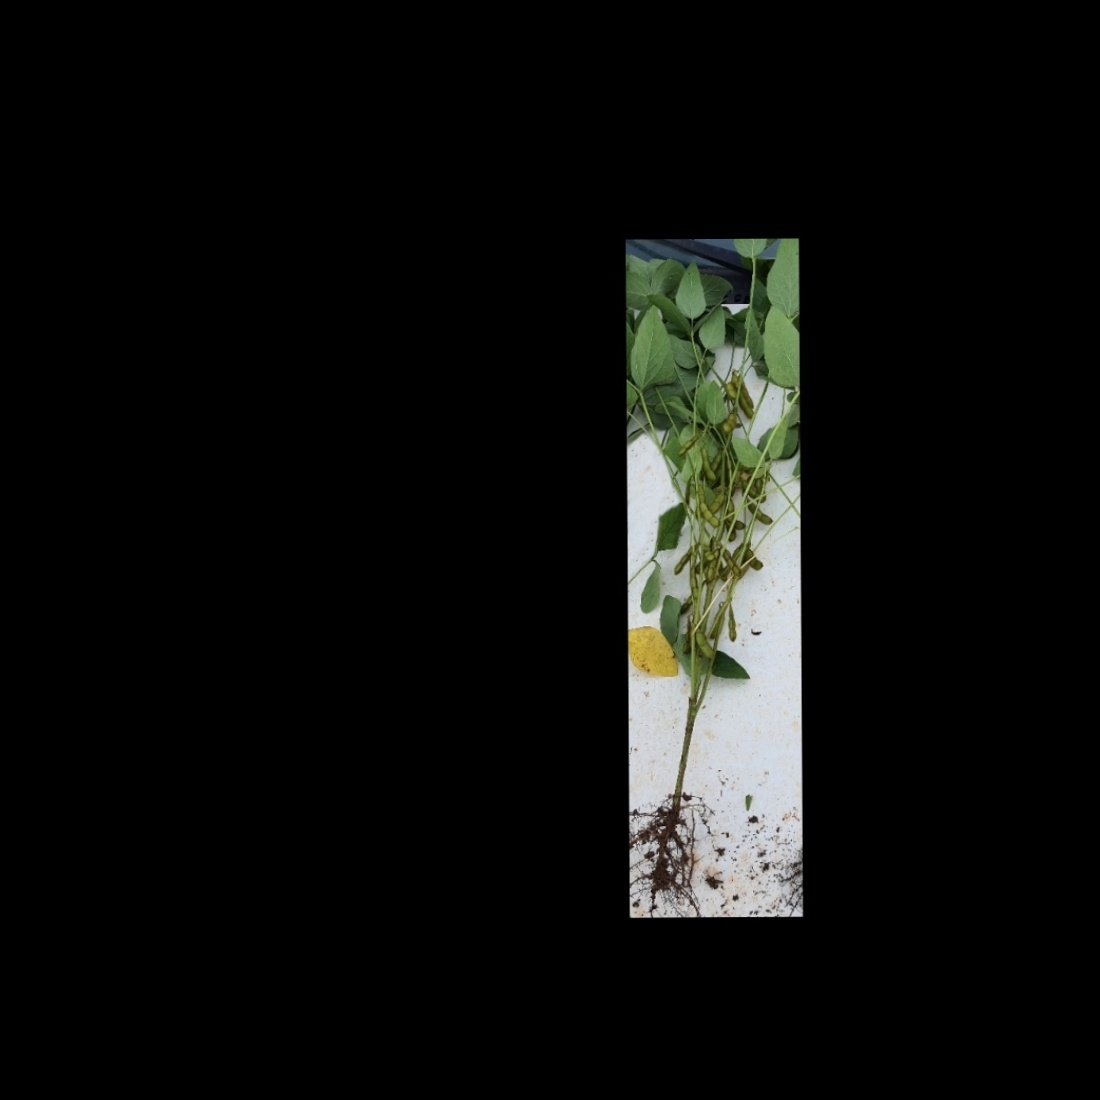pod: (745, 498, 774, 528), (668, 547, 694, 579), (699, 447, 719, 483), (698, 501, 722, 529), (674, 433, 702, 456), (725, 605, 742, 643), (723, 546, 741, 575), (737, 396, 755, 421), (720, 408, 736, 435), (678, 596, 694, 617), (724, 379, 738, 400)
soy: (634, 257, 794, 890)
